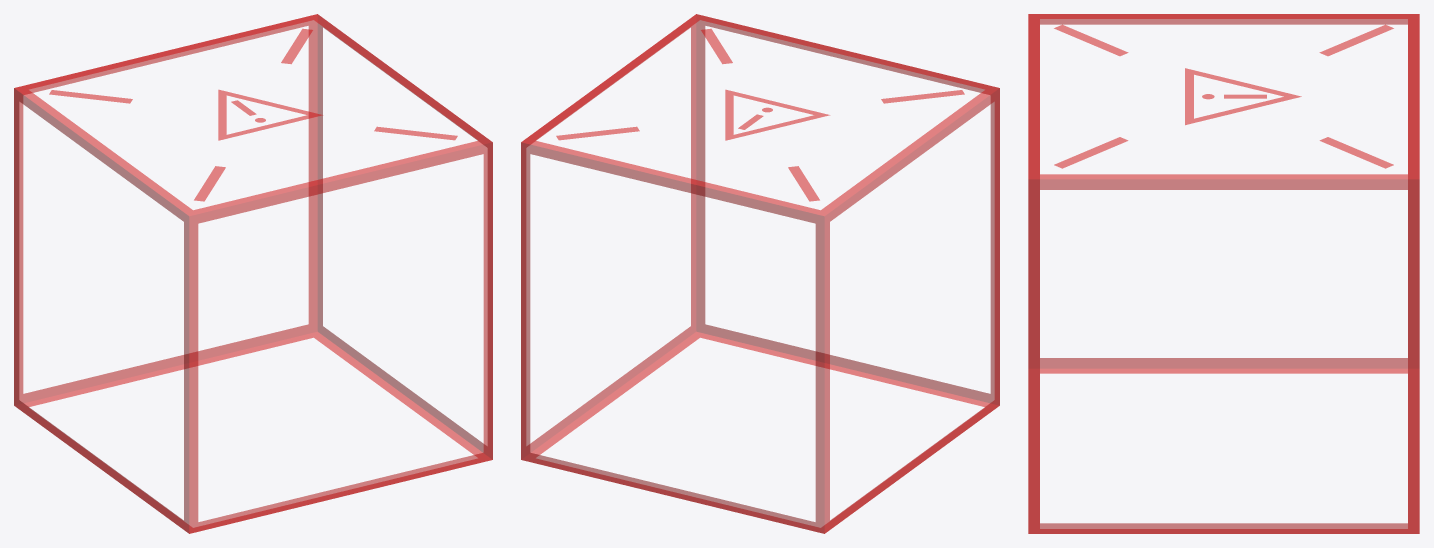
The model's file is enter.fbx.
3 views of the same model, side by side, from view 1: azimuth 30°, elevation 25°; view 2: azimuth 150°, elevation 25°; view 3: azimuth 270°, elevation 25° (orthographic). The views are drawn at different scales.
Visible parts, largest first — view 1: 入口; view 2: 入口; view 3: 入口.
Boxes of the visible parts, x1,y1,x2,y2 form: 入口: [14, 14, 492, 533]; 入口: [521, 14, 999, 533]; 入口: [1028, 14, 1419, 533].
Size of the model in its own units: 1 by 1 by 1.
